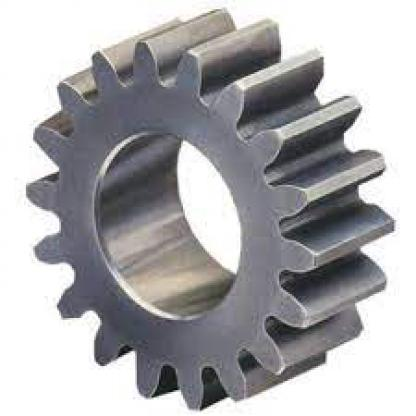FOD: (18, 6, 398, 406)
